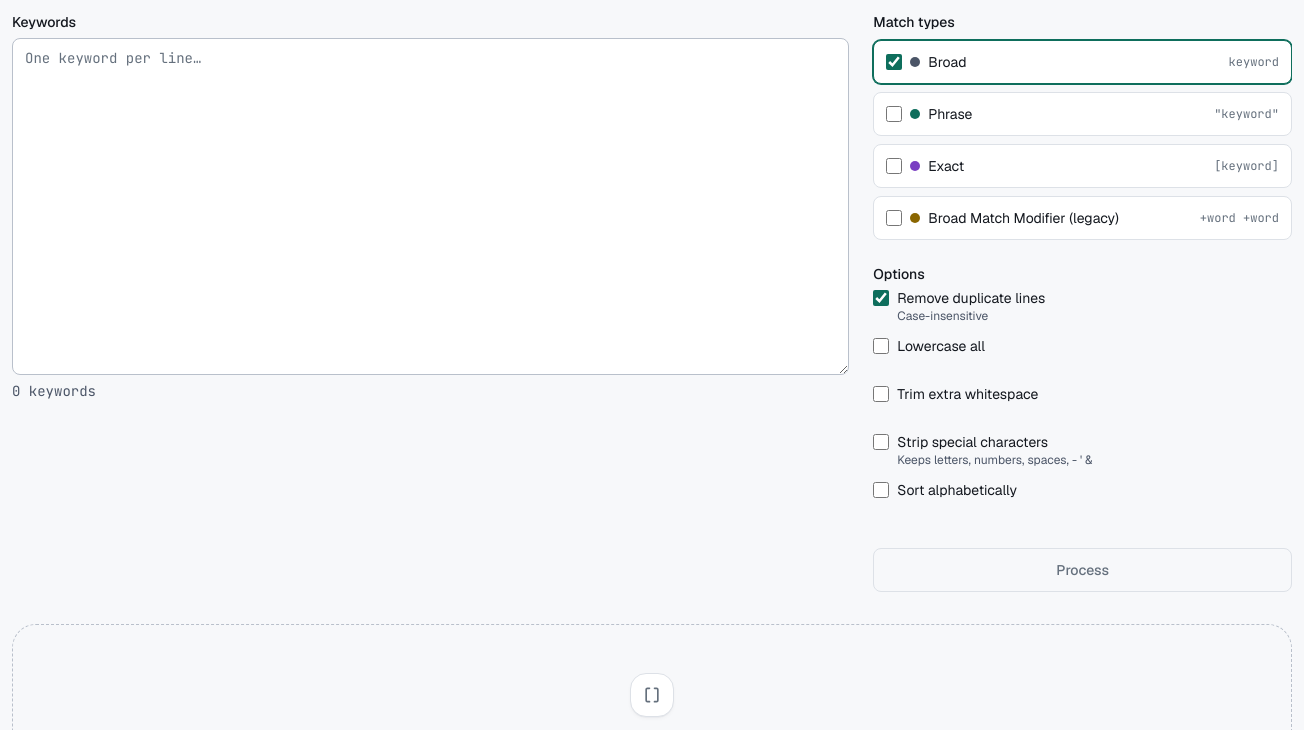
Scenario: MatchTypeApp › requires at least one match type before processing
Type "running shoes" into the text box labelled "Keywords" at [431, 206], box [12, 38, 849, 374]
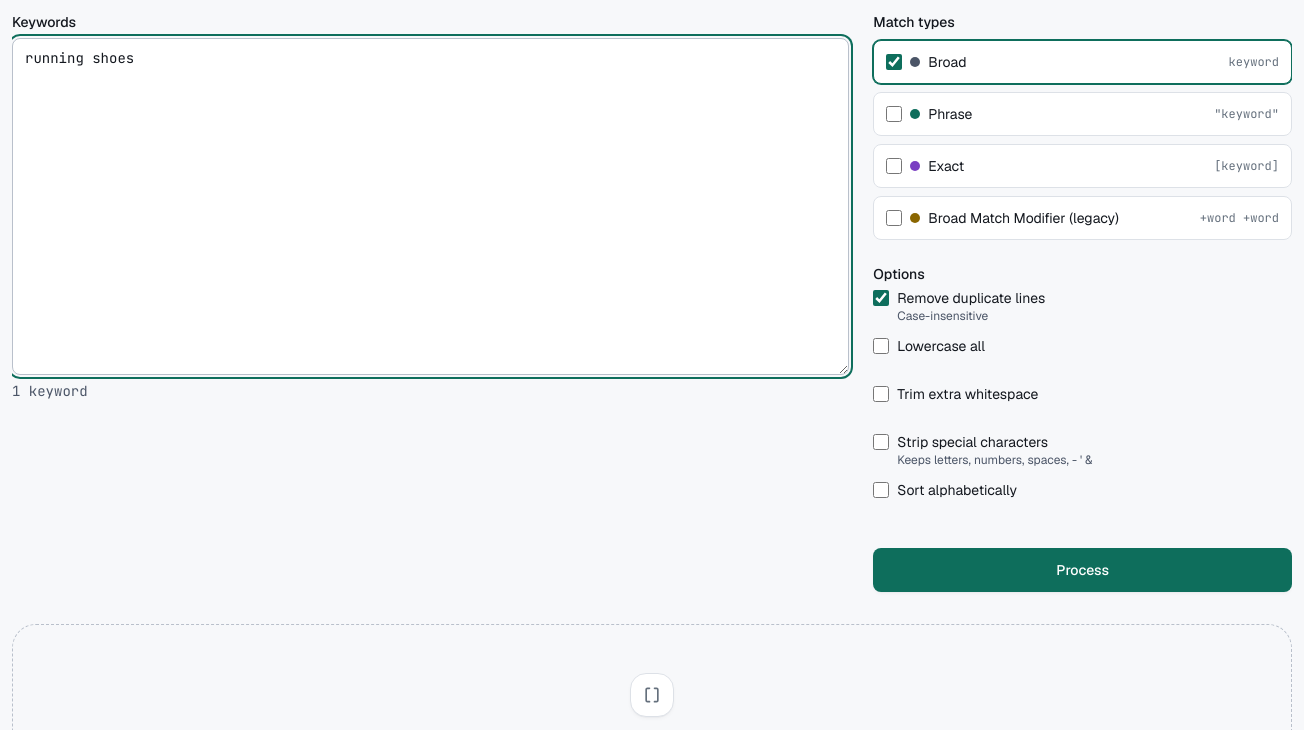
Click the checkbox labelled "Broad keyword" at [894, 62], box [886, 54, 902, 70]
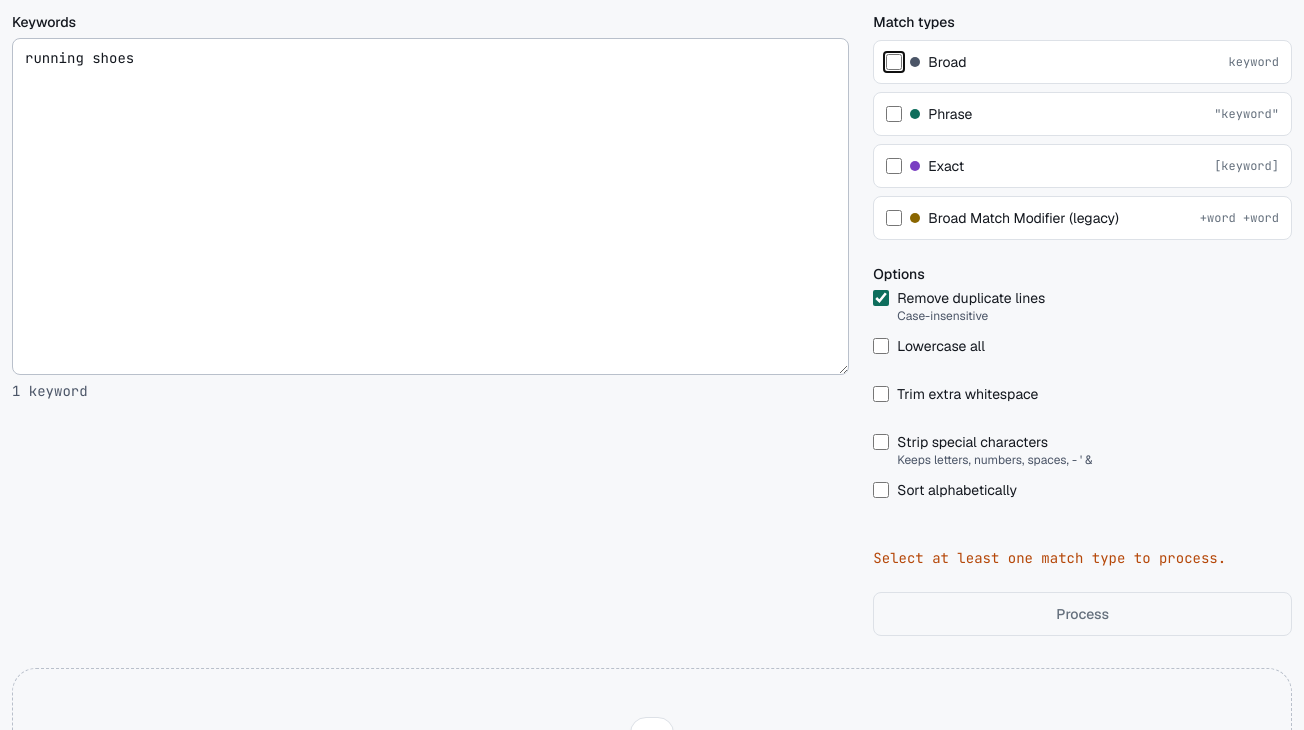
Expected: the text "Select at least one match type to process." is shown, [873, 549, 1226, 567]
Expected: the button "Process" is disabled, [873, 592, 1292, 636]
